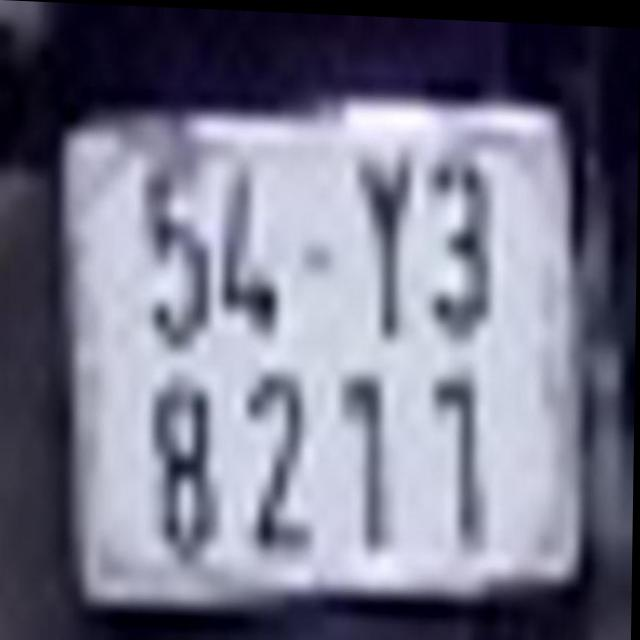0: (212, 150, 289, 341)
1: (428, 357, 493, 550), (342, 363, 391, 546)
2: (242, 355, 318, 547)
3: (421, 135, 502, 345)
5: (135, 145, 211, 355)
8: (142, 368, 227, 567)
Y: (351, 129, 419, 343)
